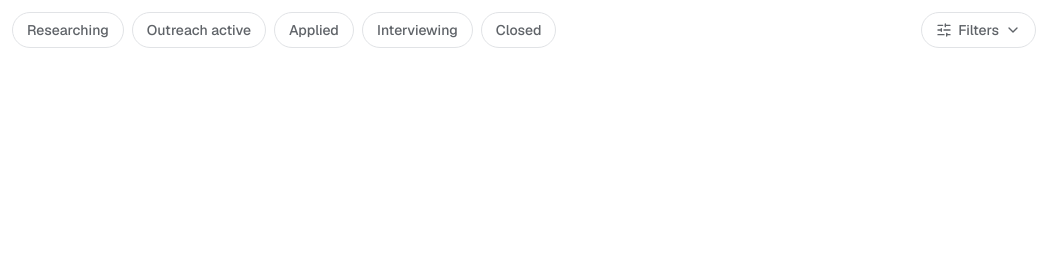
Test: Companies filter bar: target company › reports the selected side to the page and counts as one active filter
Step 1. Click the button "Filters" → [979, 30], box [921,12,1036,48]
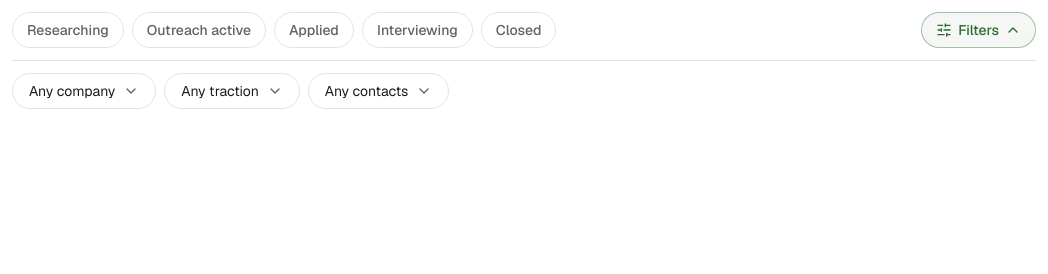
Step 2. Click the dropdown named "Filter by target company" → [84, 91], box [12,73,156,109]
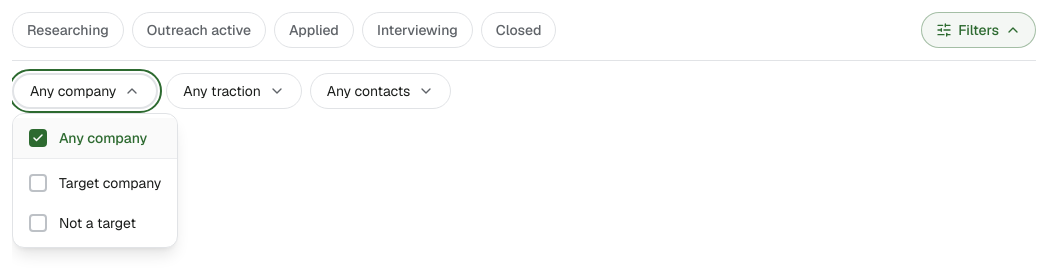
Step 3. Click the option "Not a target" → [82, 223], box [29,214,136,232]
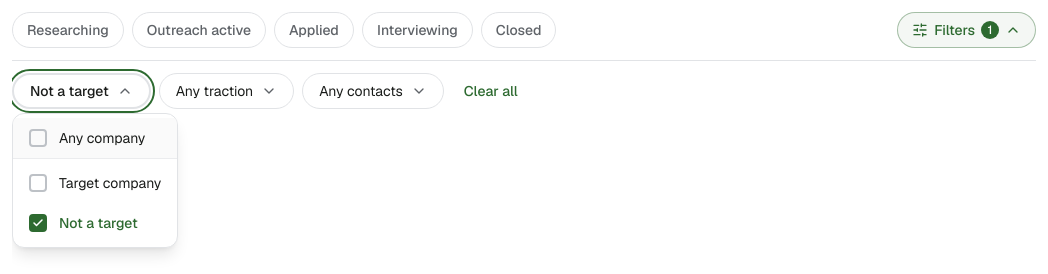
Check: the button "Filters 1" is shown, box [897,12,1036,48]
